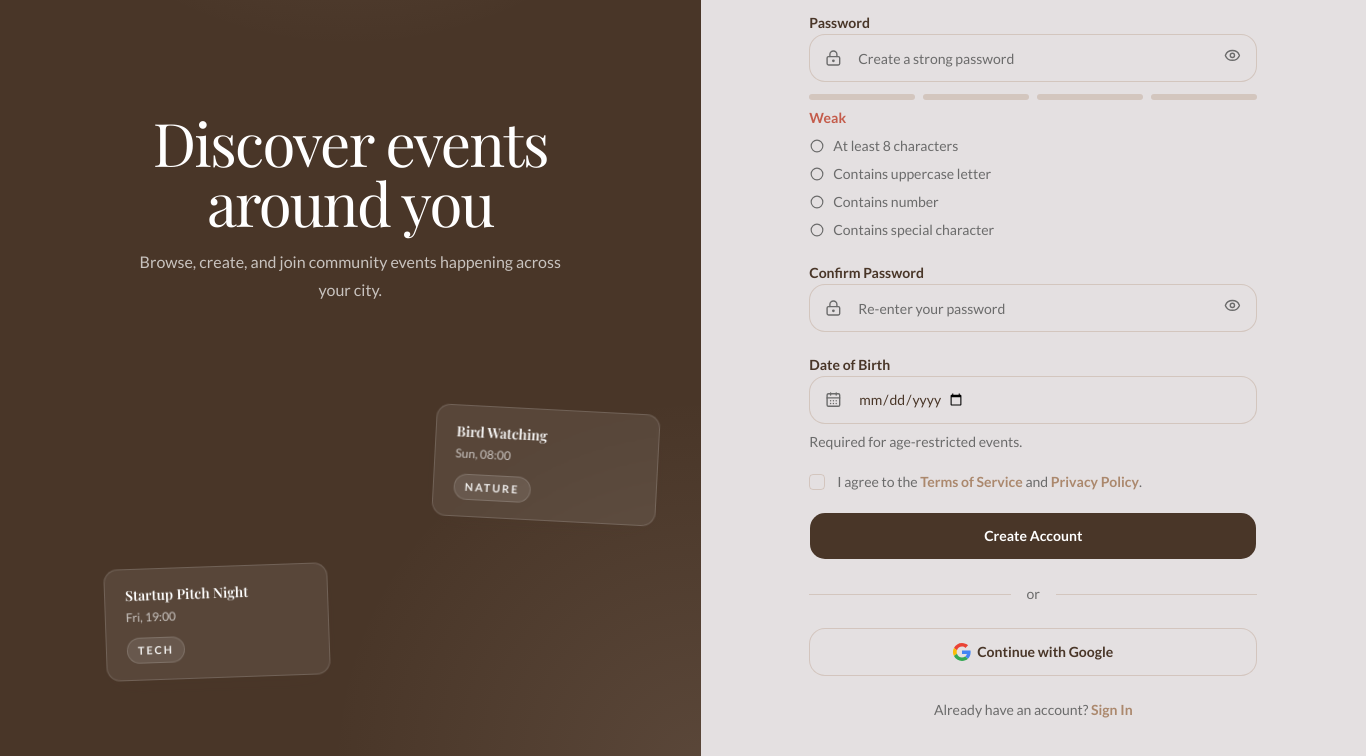
RegisterPage › validates required fields before submitting
(page scrolled)
What coordinates should you click on to do the following:
click the button "Create Account"
I would click on:
 (1033, 536)
Its box is x1=809 y1=512 x2=1257 y2=560.
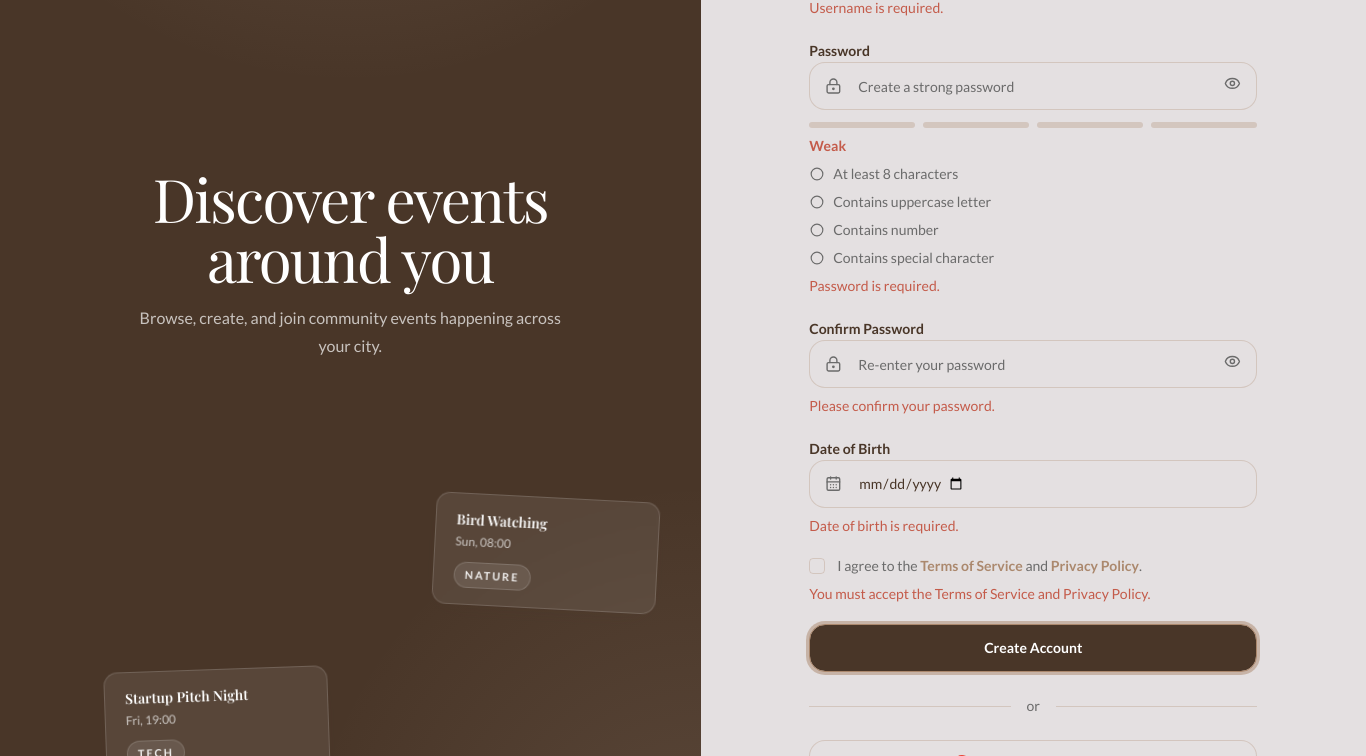
Expected: the text "Username is required." is shown, x1=809 y1=0 x2=943 y2=16
Expected: the text "Password is required." is shown, x1=809 y1=277 x2=940 y2=294
Expected: the text "Please confirm your password." is shown, x1=809 y1=397 x2=995 y2=414
